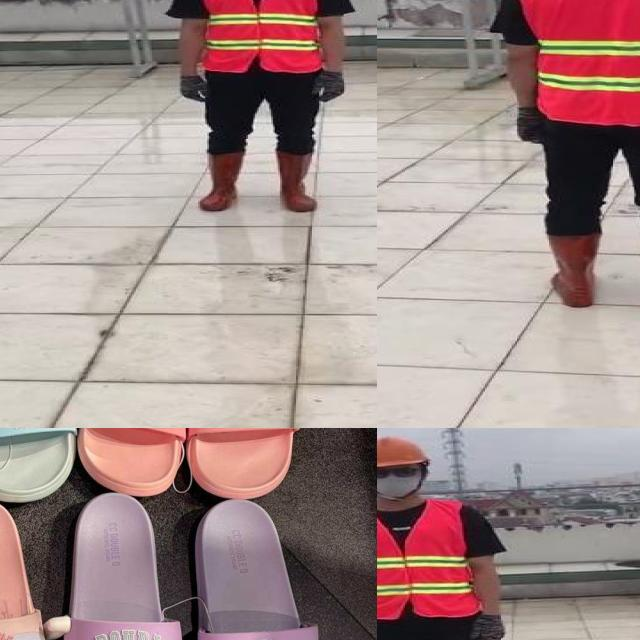Sandals: (51, 485, 338, 640), (77, 428, 325, 530)
boots: (538, 232, 606, 310), (194, 151, 250, 212), (271, 149, 323, 212)
face_mask: (377, 463, 425, 499)
glasses: (377, 465, 425, 481)
hand_glove: (510, 101, 547, 148), (177, 73, 214, 103), (312, 73, 348, 102), (470, 618, 508, 640)
head_helmet: (377, 435, 428, 469)
person: (482, 0, 640, 320), (163, 0, 360, 219), (377, 433, 514, 640)
vest: (524, 0, 640, 128), (377, 499, 479, 616), (196, 0, 322, 73)
